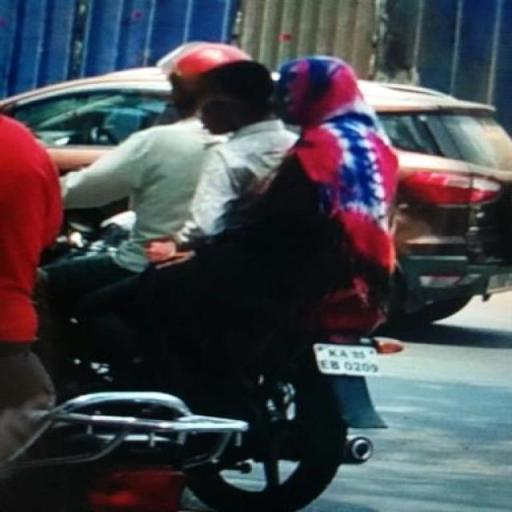tripple riding: (60, 37, 419, 308)
